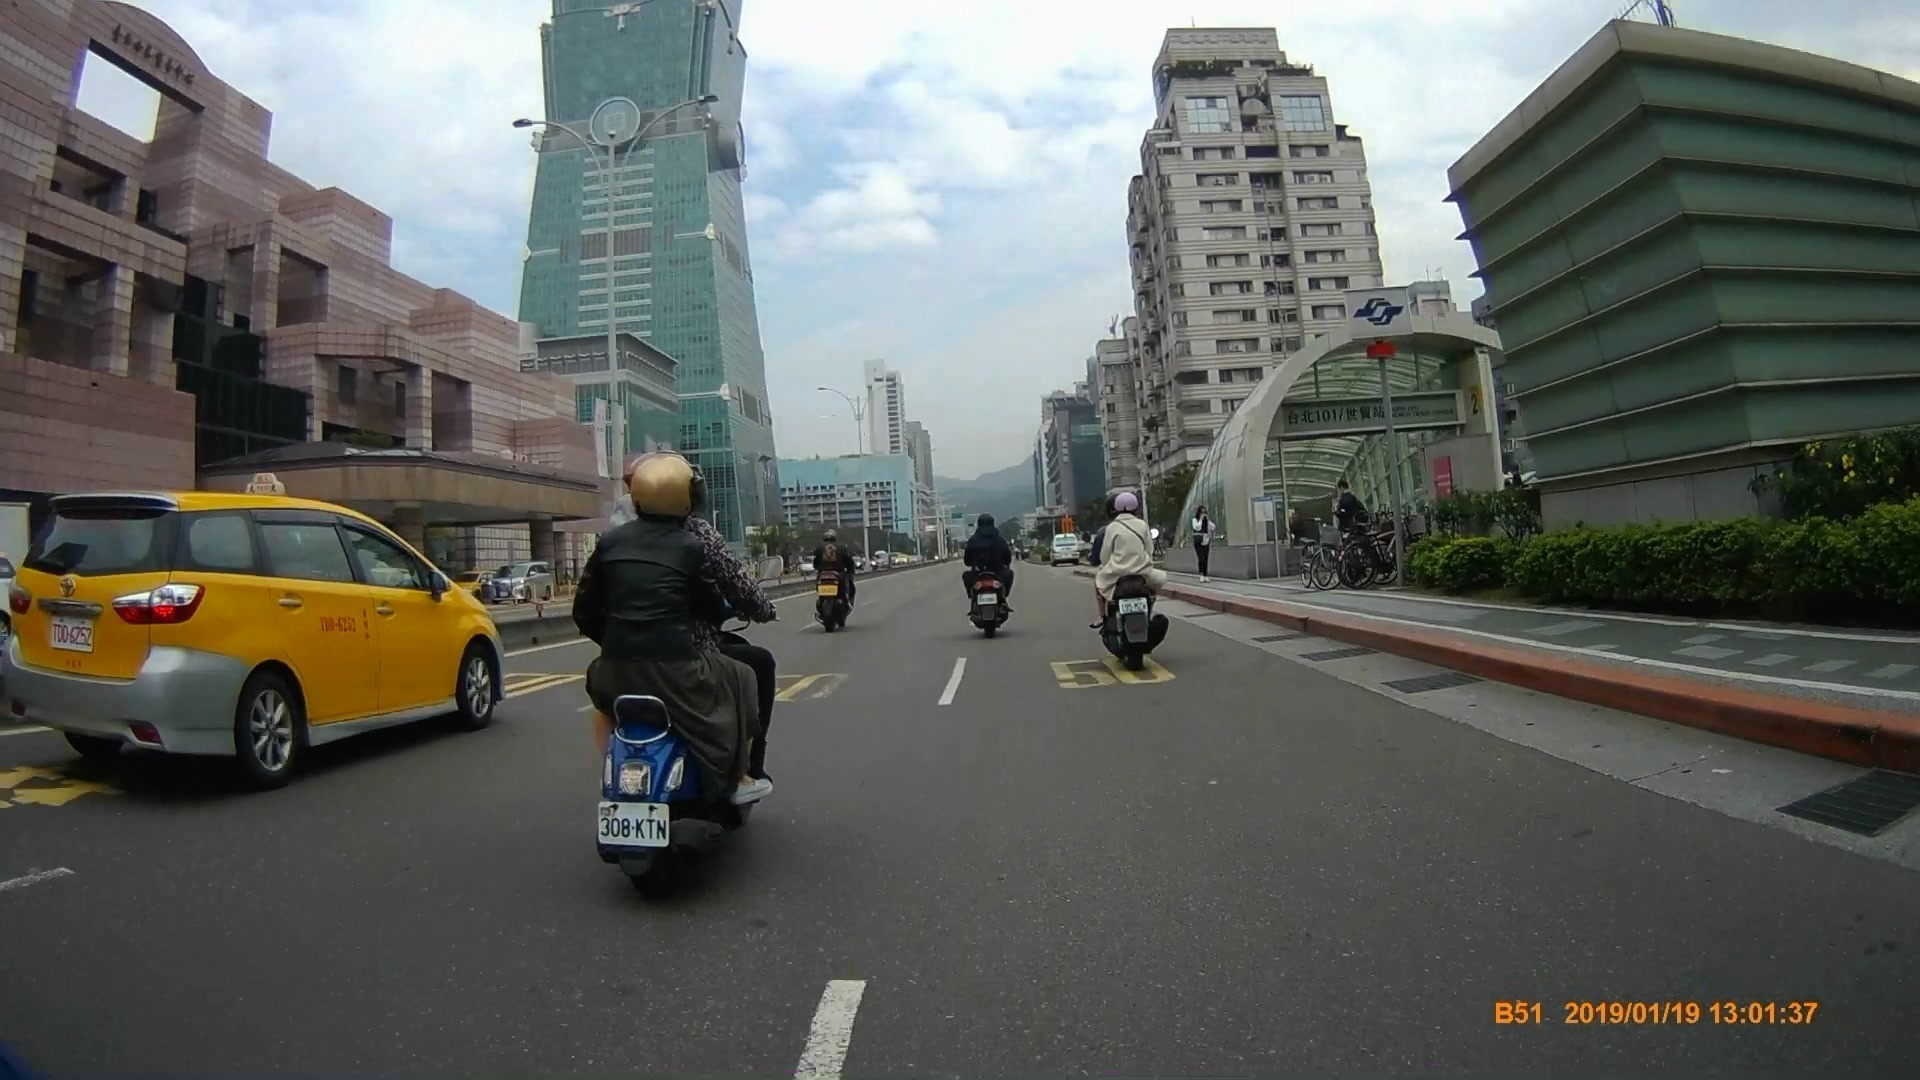License_plate: (596, 799, 673, 846), (47, 618, 99, 653)
